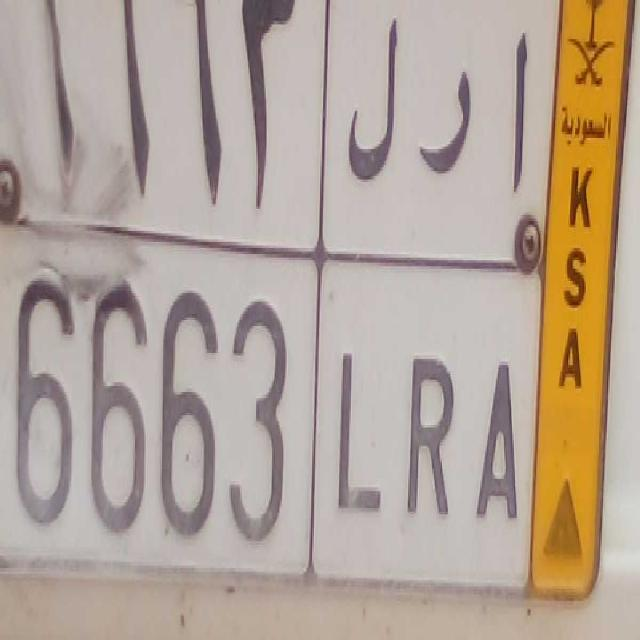license_plate: (0, 214, 539, 631)
